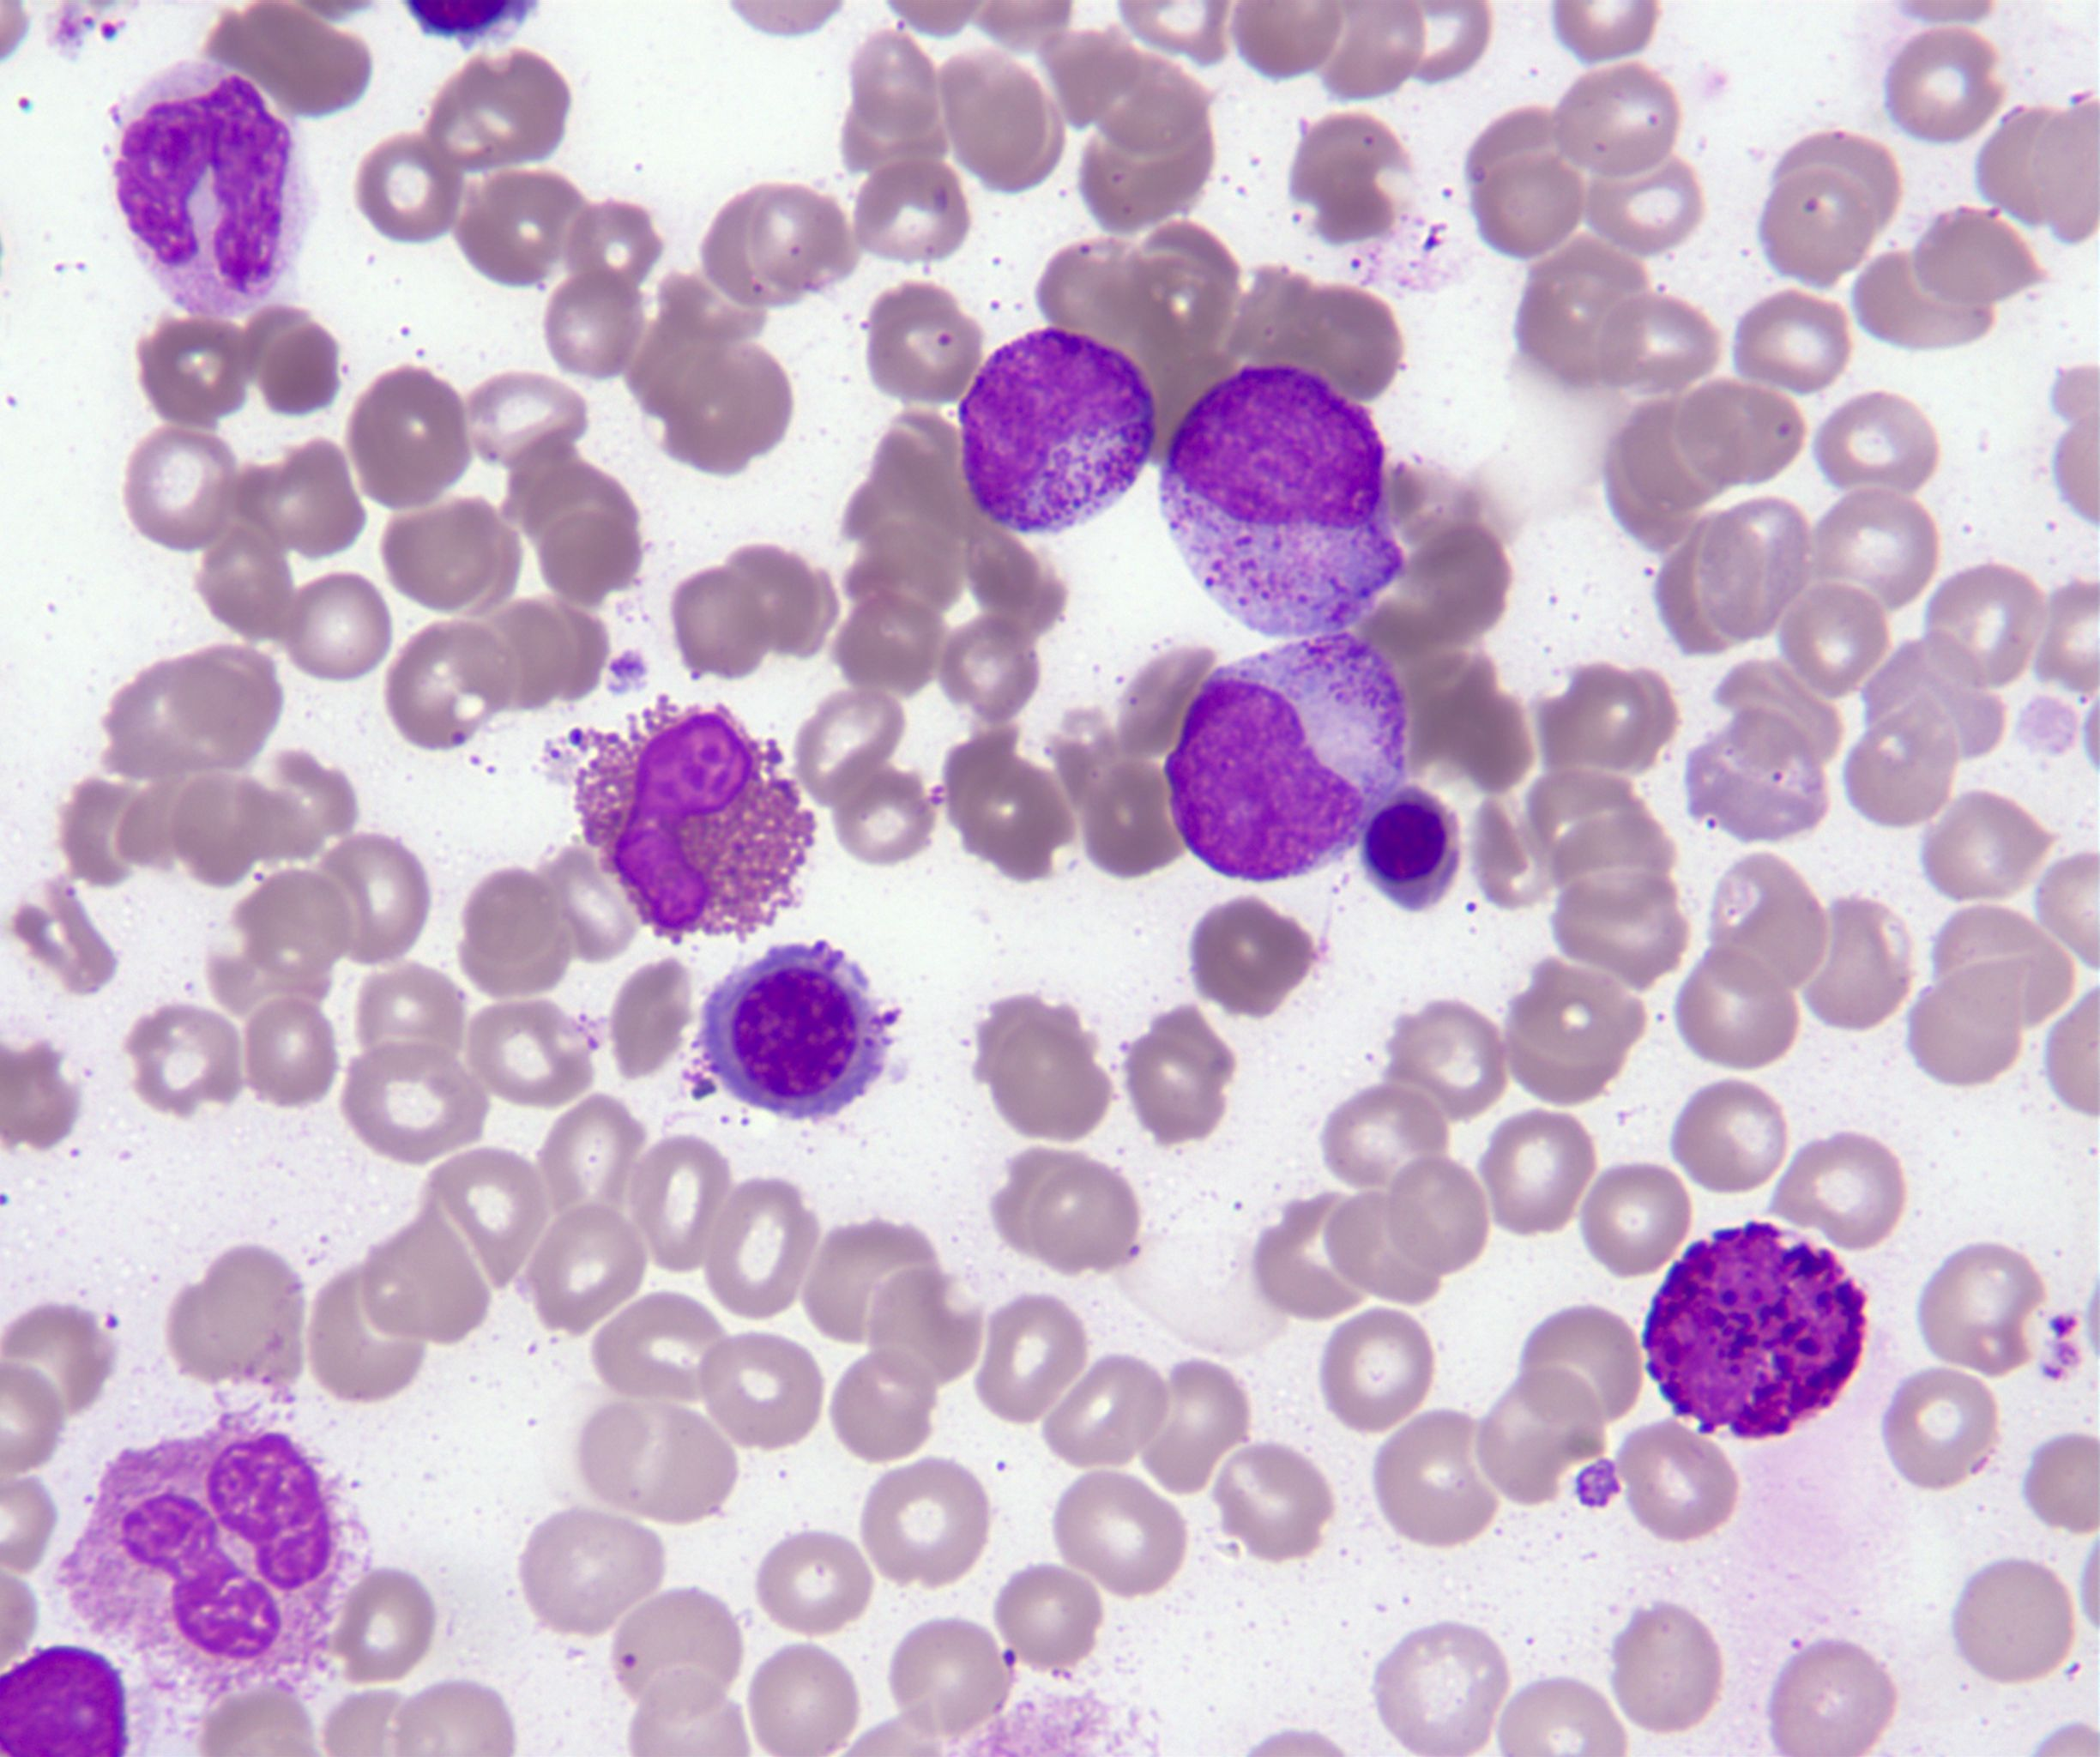23: (703, 939, 888, 1120)
24: (1360, 783, 1460, 913)
3: (1160, 368, 1404, 637), (1163, 635, 1408, 881), (958, 328, 1155, 536)
4: (112, 59, 316, 325)
B4: (1643, 1223, 1866, 1439)
x: (54, 1406, 370, 1705), (574, 701, 813, 944), (0, 1645, 131, 1757)
